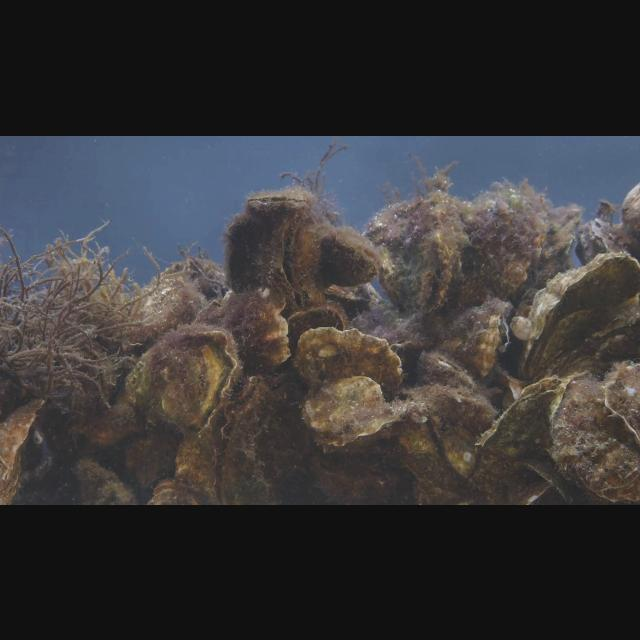Oyster-Closed: (520, 251, 640, 379), (459, 376, 566, 504), (361, 194, 467, 318), (548, 370, 640, 504), (454, 185, 550, 312), (126, 255, 228, 358), (296, 375, 414, 453), (191, 284, 291, 376), (286, 324, 404, 394), (0, 396, 48, 504), (320, 227, 384, 287), (575, 217, 640, 268), (603, 361, 640, 443), (419, 348, 476, 390)
Oyster-Open: (125, 322, 241, 442), (210, 372, 300, 503), (224, 192, 312, 320), (434, 299, 512, 381), (146, 476, 200, 504)
